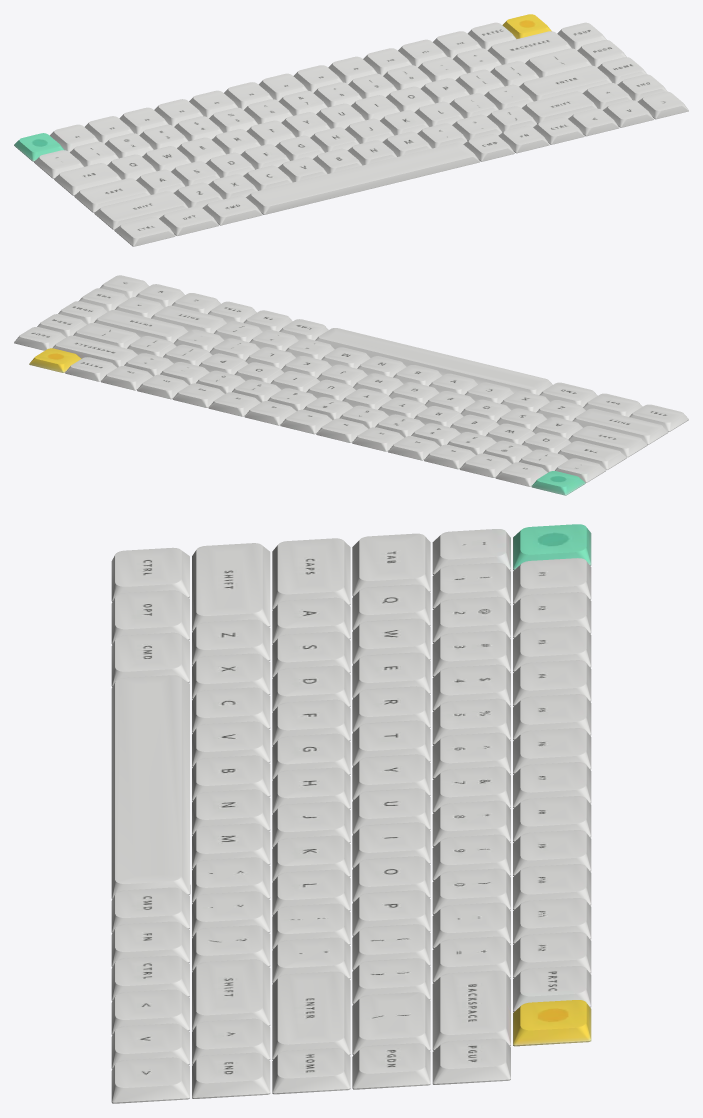
The model's file is keyboard-keycaps.glb.
The picture shows the model from 3 angles, top to bottom: view 1: azimuth 30°, elevation 25°; view 2: azimuth 150°, elevation 25°; view 3: azimuth 270°, elevation 25°; orthographic projection. The views are drawn at different scales.
Visible parts, largest first — view 1: KEYCAP_Space, KEYCAP_SHIFT_L, KEYCAP_ENTER, KEYCAP_BACKSPACE, KEYCAP_CAPS, KEYCAP_SHIFT_R, KEYCAP_TAB, KEYCAP_Backslash, KEYCAP_CTRL_L, KEYCAP_CMD_L, KEYCAP_OPT, KEYCAP_CMD_R (+71 smaller); view 2: KEYCAP_Space, KEYCAP_SHIFT_L, KEYCAP_ENTER, KEYCAP_BACKSPACE, KEYCAP_CAPS, KEYCAP_SHIFT_R, KEYCAP_TAB, KEYCAP_Backslash, KEYCAP_CTRL_L, KEYCAP_Esc, KEYCAP_CMD_L, KEYCAP_OPT (+71 smaller); view 3: KEYCAP_Space, KEYCAP_SHIFT_L, KEYCAP_ENTER, KEYCAP_BACKSPACE, KEYCAP_SHIFT_R, KEYCAP_CAPS, KEYCAP_Backslash, KEYCAP_TAB, KEYCAP_OPT, KEYCAP_CMD_L, KEYCAP_CTRL_L, KEYCAP_Right (+71 smaller).
Boxes of the visible parts, bbox=[...] form: KEYCAP_Space: bbox=[246, 142, 479, 214]; KEYCAP_SHIFT_L: bbox=[94, 191, 188, 229]; KEYCAP_ENTER: bbox=[519, 65, 612, 101]; KEYCAP_BACKSPACE: bbox=[487, 31, 571, 64]; KEYCAP_CAPS: bbox=[74, 178, 150, 212]; KEYCAP_SHIFT_R: bbox=[522, 91, 597, 123]; KEYCAP_TAB: bbox=[54, 163, 121, 195]; KEYCAP_Backslash: bbox=[525, 48, 591, 77]; KEYCAP_CTRL_L: bbox=[114, 217, 175, 246]; KEYCAP_CMD_L: bbox=[202, 195, 262, 225]; KEYCAP_OPT: bbox=[159, 206, 218, 235]; KEYCAP_CMD_R: bbox=[463, 134, 514, 161]; KEYCAP_Space: bbox=[315, 328, 552, 394]; KEYCAP_SHIFT_L: bbox=[572, 408, 668, 444]; KEYCAP_ENTER: bbox=[94, 310, 188, 343]; KEYCAP_BACKSPACE: bbox=[52, 335, 137, 367]; KEYCAP_CAPS: bbox=[568, 426, 647, 457]; KEYCAP_SHIFT_R: bbox=[151, 305, 226, 333]; KEYCAP_TAB: bbox=[558, 441, 626, 469]; KEYCAP_Backslash: bbox=[73, 323, 140, 348]; KEYCAP_CTRL_L: bbox=[629, 404, 688, 431]; KEYCAP_Esc: bbox=[531, 471, 585, 495]; KEYCAP_CMD_L: bbox=[539, 382, 597, 406]; KEYCAP_OPT: bbox=[583, 393, 642, 416]; KEYCAP_Space: bbox=[111, 675, 190, 899]; KEYCAP_SHIFT_L: bbox=[192, 543, 270, 631]; KEYCAP_ENTER: bbox=[272, 971, 350, 1059]; KEYCAP_BACKSPACE: bbox=[432, 970, 510, 1050]; KEYCAP_SHIFT_R: bbox=[192, 959, 270, 1030]; KEYCAP_CAPS: bbox=[272, 538, 350, 609]; KEYCAP_Backslash: bbox=[352, 992, 430, 1055]; KEYCAP_TAB: bbox=[352, 533, 430, 596]; KEYCAP_OPT: bbox=[111, 590, 189, 644]; KEYCAP_CMD_L: bbox=[111, 632, 189, 686]; KEYCAP_CTRL_L: bbox=[111, 547, 189, 601]; KEYCAP_Right: bbox=[111, 1057, 189, 1103].
Size of the model in its own units: 0.3035 by 0.0106 by 0.1133.
1 material, 1 textured.
